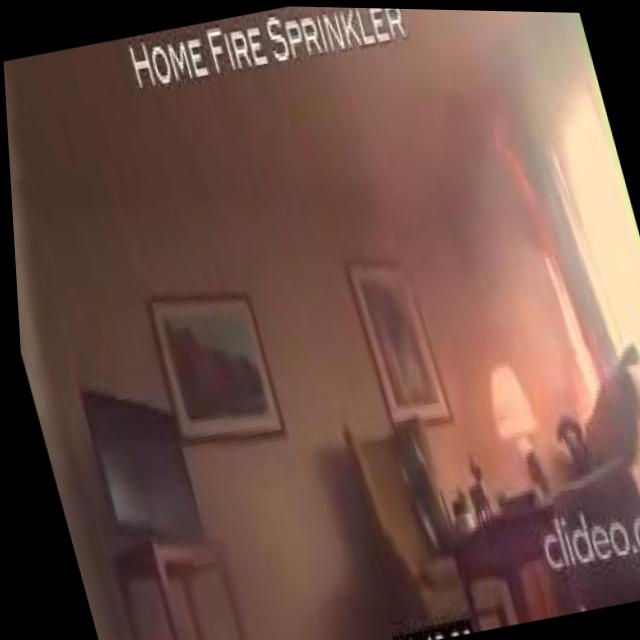fire: (480, 107, 608, 432)
